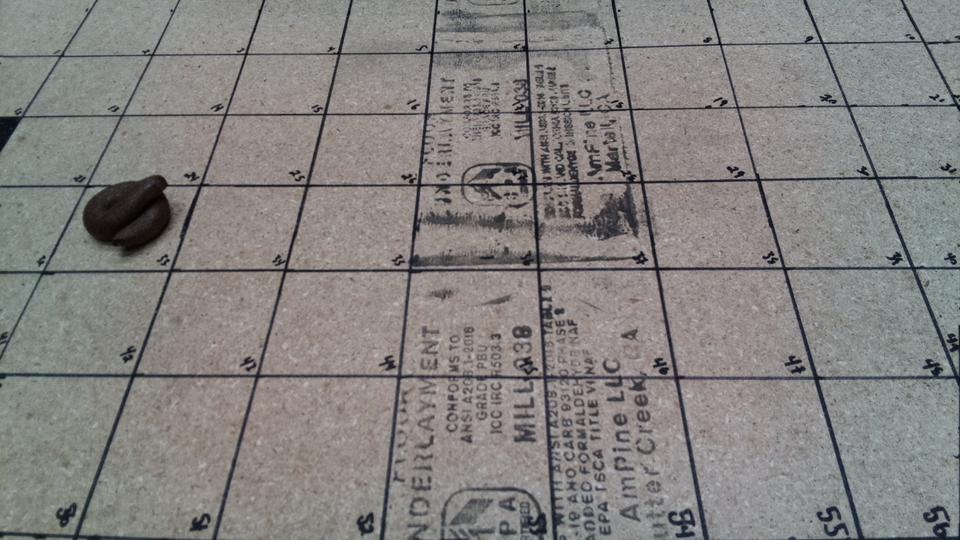poop: (435, 399, 526, 493), (533, 274, 632, 357), (284, 267, 382, 350)
